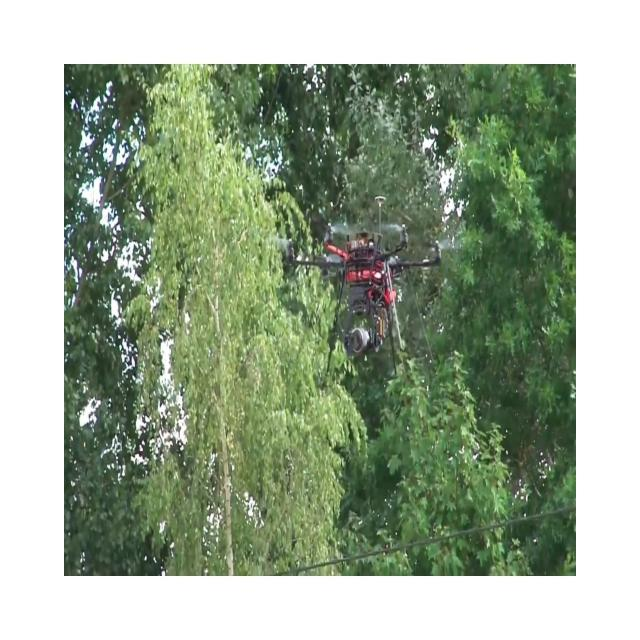drone: (270, 194, 442, 370)
